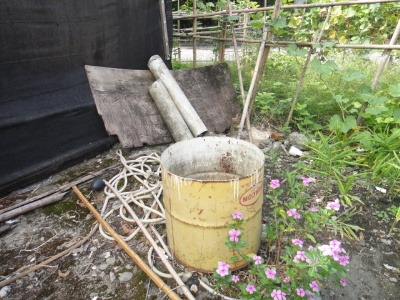bucket: (157, 136, 268, 273)
